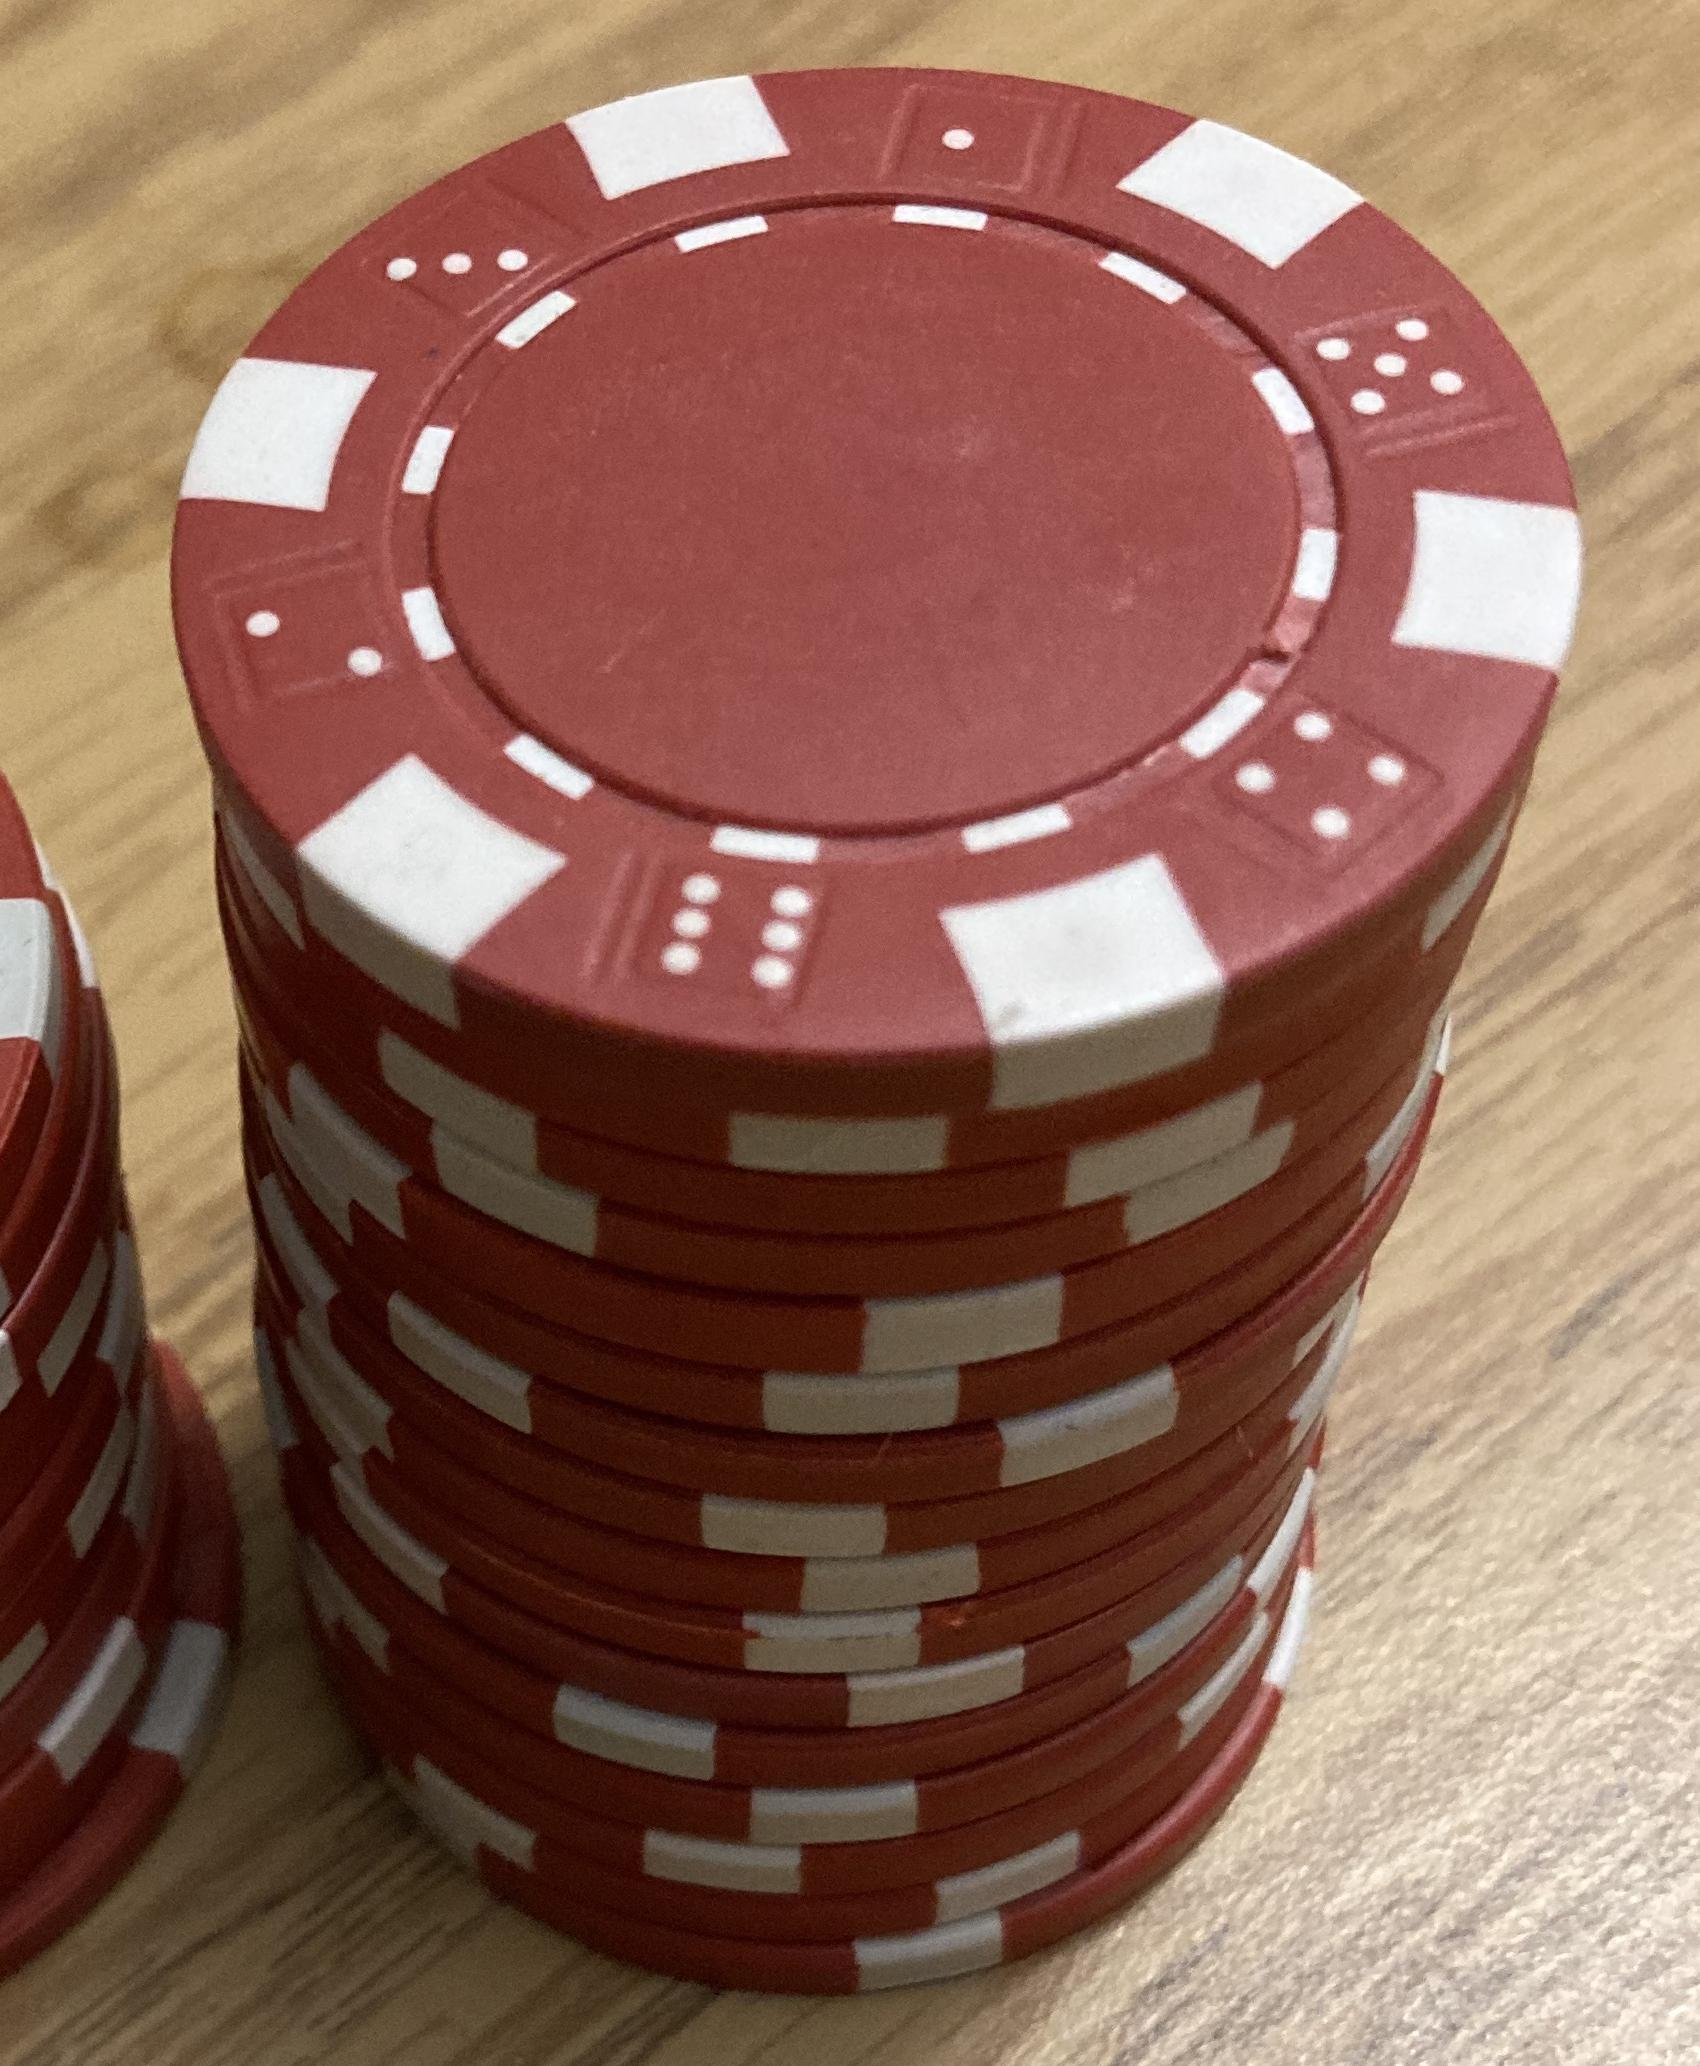Chip: (2, 2, 1700, 2066)
